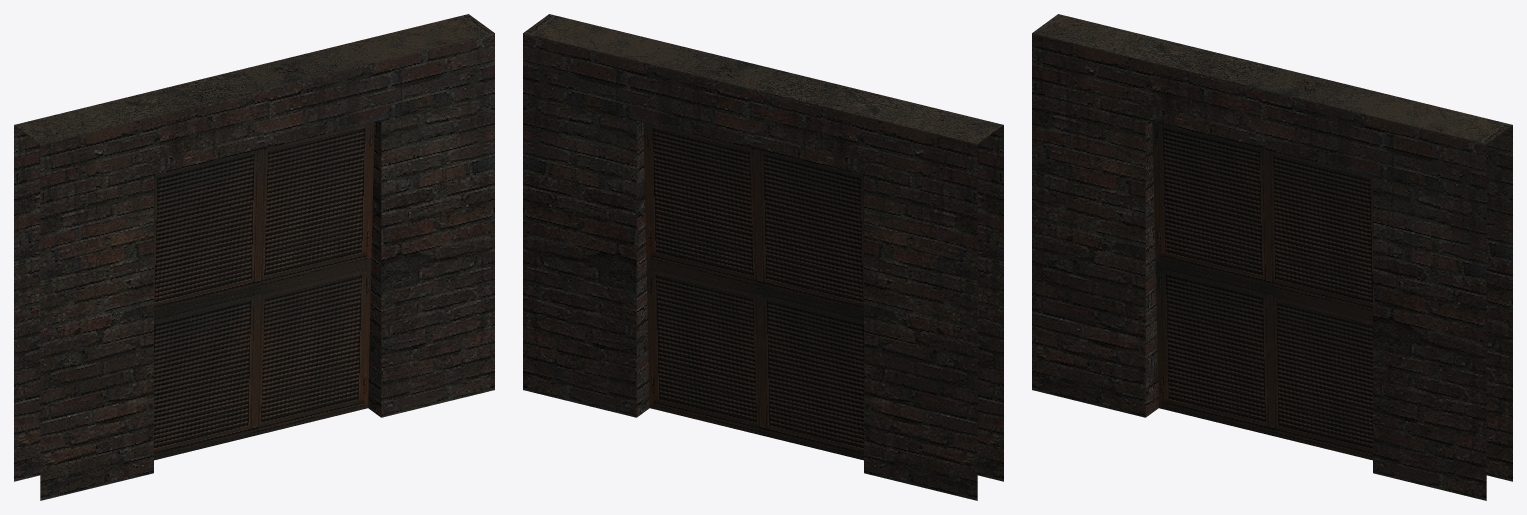
The model's file is wall_hs_1_m_2.glb.
3 renders of one model, left to right at view 1: azimuth 30°, elevation 25°; view 2: azimuth 150°, elevation 25°; view 3: azimuth 330°, elevation 25°, orthographic.
Parts seen in each view (by area): view 1: wall_hs_1_m_2; view 2: wall_hs_1_m_2; view 3: wall_hs_1_m_2.
Boxes of the visible parts, box(x1,y1,x2,y2) form: wall_hs_1_m_2: box(14, 14, 494, 500); wall_hs_1_m_2: box(523, 14, 1003, 500); wall_hs_1_m_2: box(1032, 14, 1512, 500).
Size of the model in its own units: 4 by 3 by 0.4.
3 materials, 3 textured.
